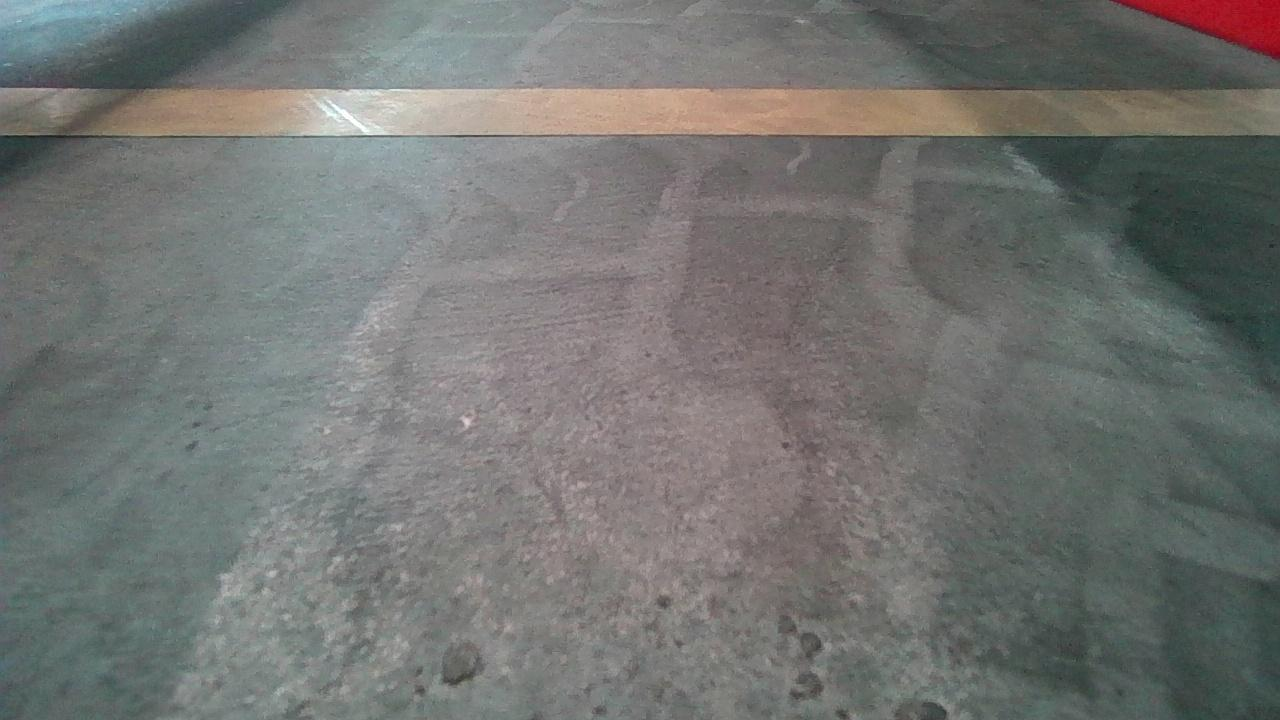yellow_line: (5, 76, 1280, 141)
